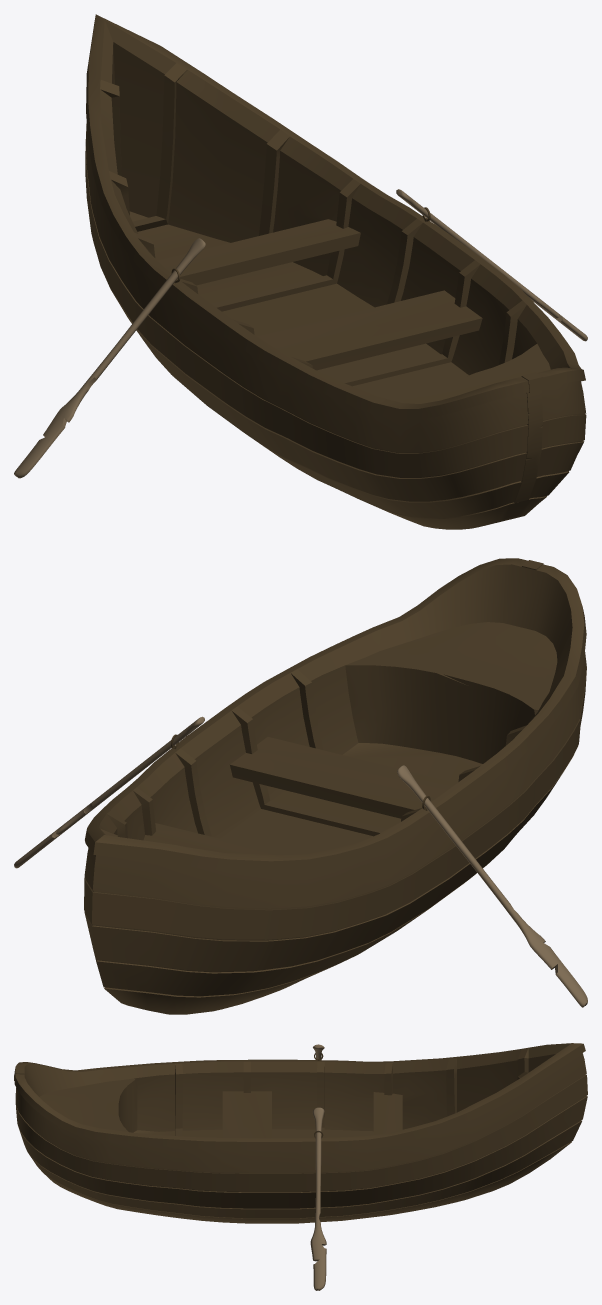
File: canoe.fbx
3 renders of one model, top to bottom at view 1: azimuth 30°, elevation 25°; view 2: azimuth 150°, elevation 25°; view 3: azimuth 270°, elevation 25°, orthographic. The views are drawn at different scales.
Parts seen in each view (by area): view 1: Plane.001, Plane.002, Plane.003; view 2: Plane.001, Plane.002, Plane.003; view 3: Plane.001, Plane.003.
Boxes of the visible parts, x1,y1,x2,y2 form: Plane.001: (85,14,586,529); Plane.002: (14,238,205,478); Plane.003: (396,189,587,341); Plane.001: (84,558,586,1014); Plane.002: (397,765,587,1007); Plane.003: (14,716,204,868); Plane.001: (14,1043,587,1223); Plane.003: (310,1107,326,1290).
Size of the model in its own units: 475 by 206 by 641.
